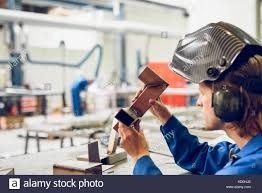person without safety: (113, 37, 262, 174)
